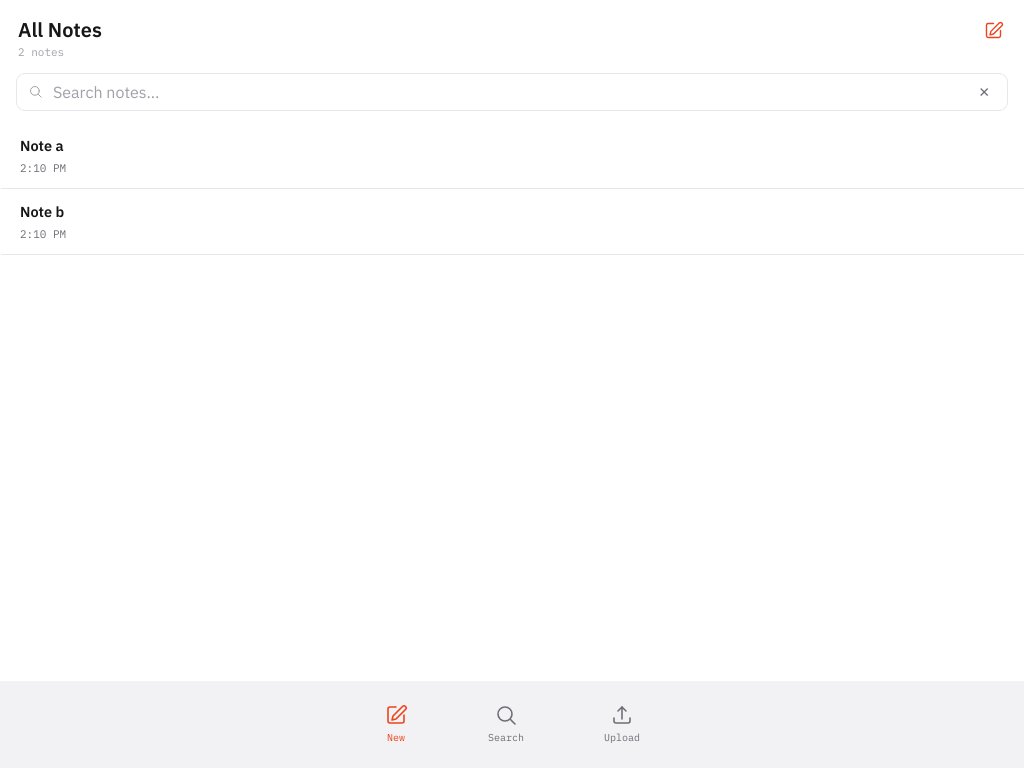
it: HomeView in-place search — native fallback (keypad mode off) › typing in the input swaps the list for results; clearing restores the list
In the search field with class "home__search-input": (508, 92) left=51, top=80, right=965, bottom=102, type "gro"
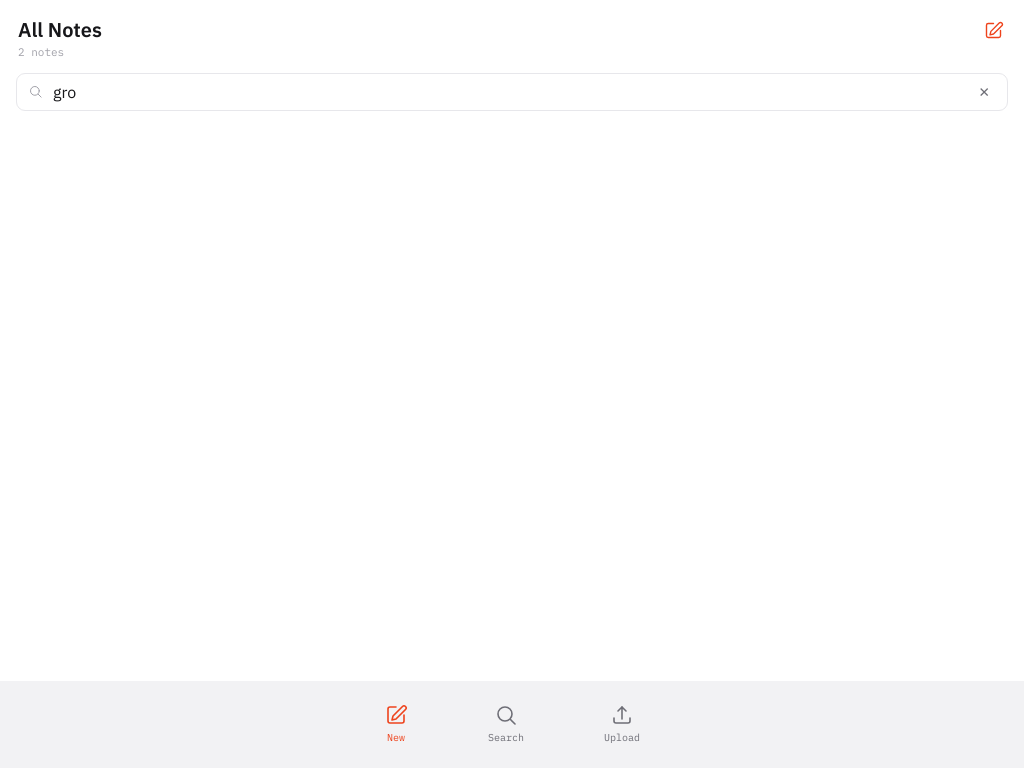
Now the list with class "home__notes" is gone
Clear the search field with class "home__search-input": (508, 92) left=51, top=80, right=965, bottom=102
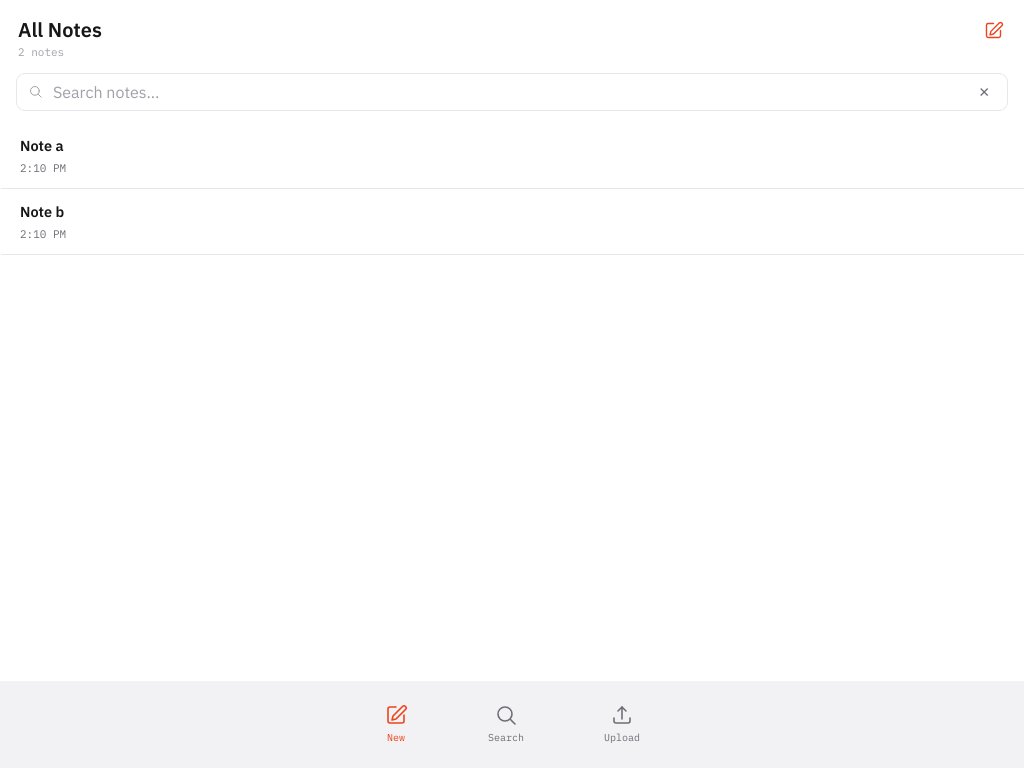
Now the list with class "home__notes" is shown, box left=0, top=122, right=1023, bottom=263
